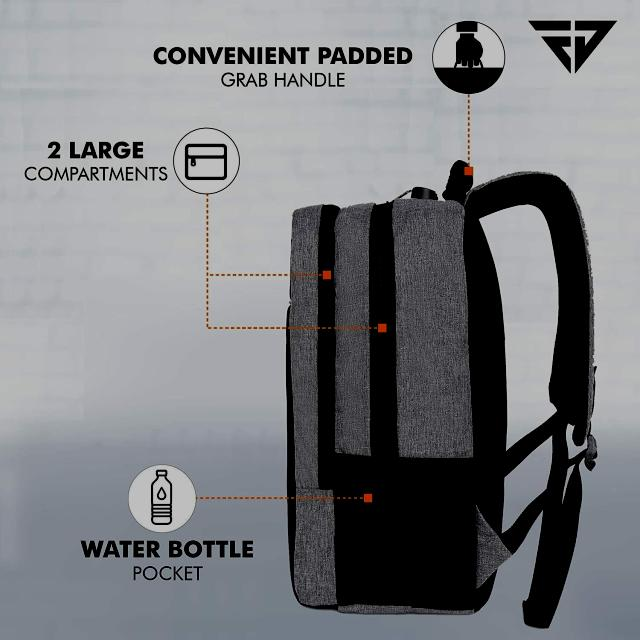backpack: (286, 162, 598, 629)
